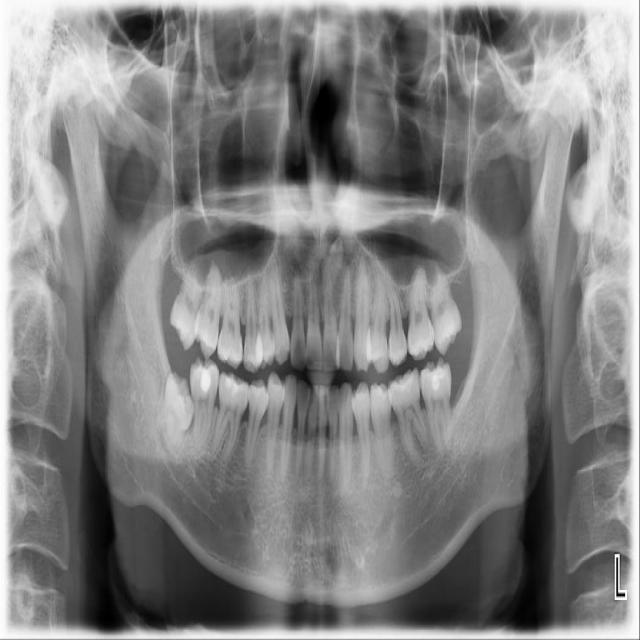Filling: (421, 368, 450, 396), (223, 377, 244, 399), (200, 367, 214, 394)
impacted tooth: (154, 372, 193, 455)
